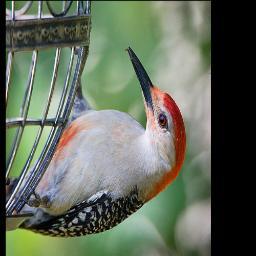Woodpecker: (6, 48, 186, 239)
